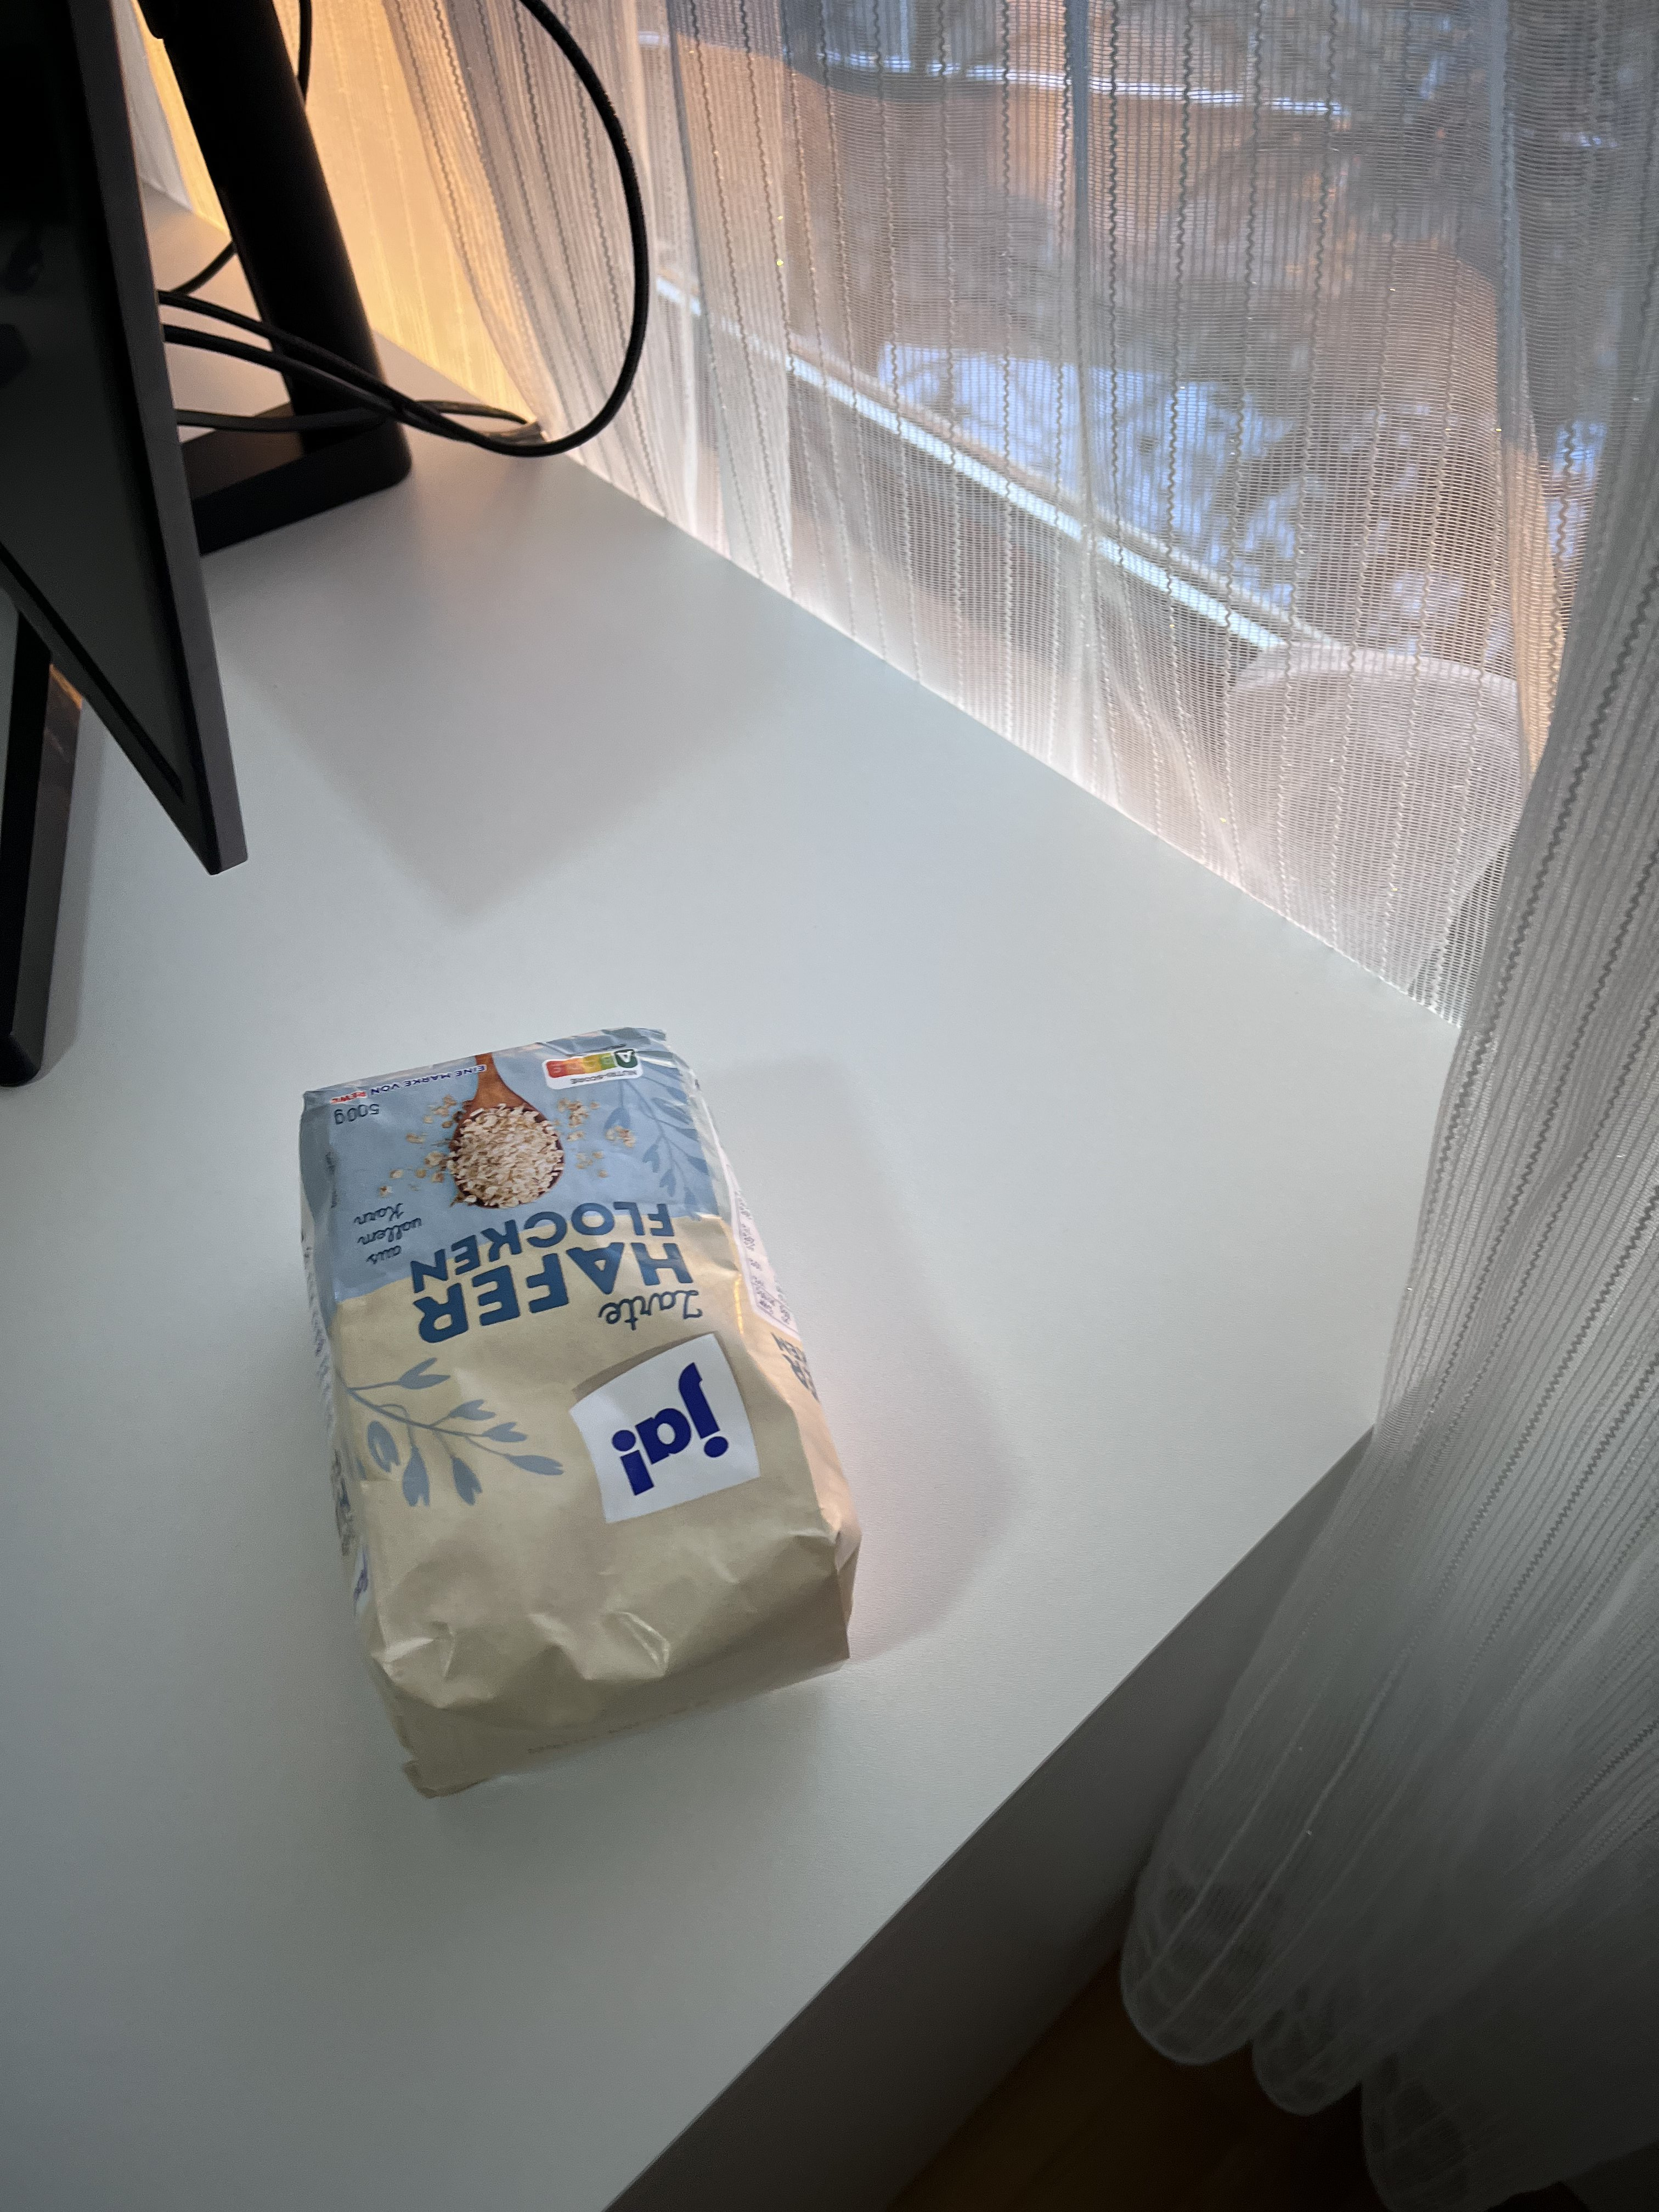haferflocken_ja: (300, 1021, 864, 1803)
